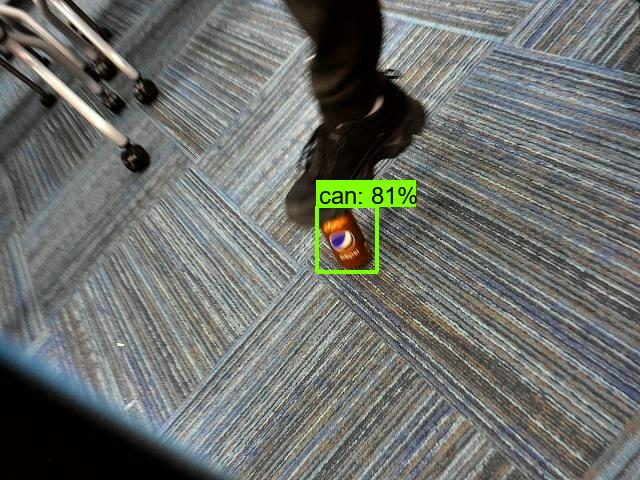can: (309, 209, 379, 283)
